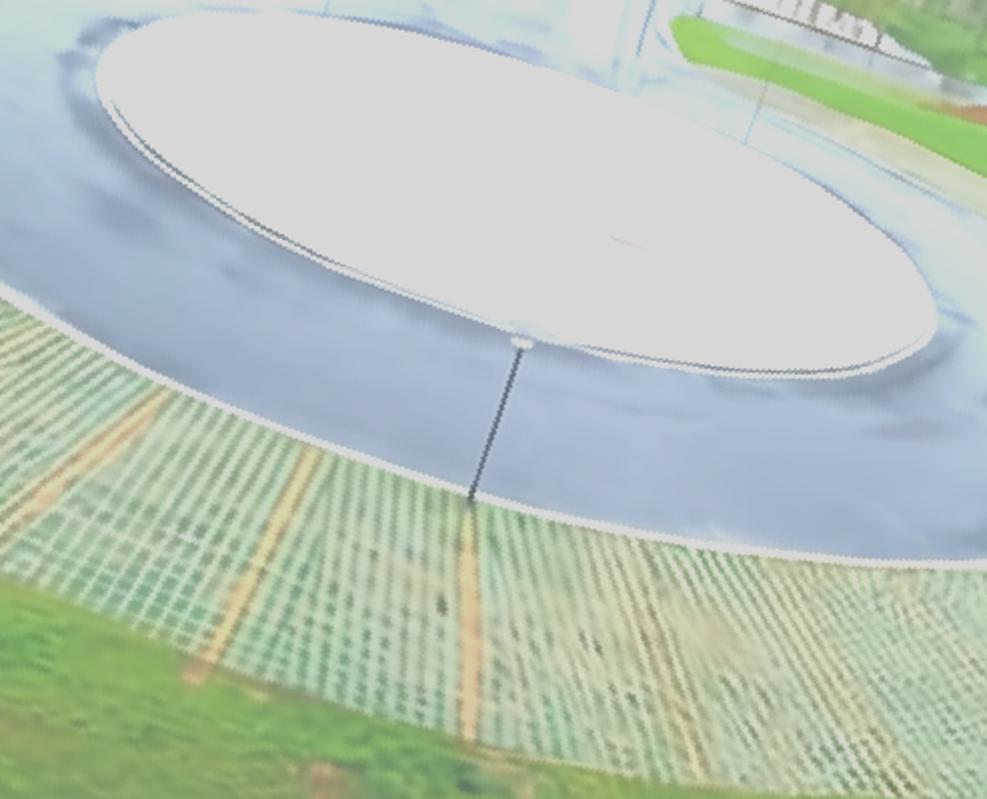Apron: (80, 1, 947, 402)
